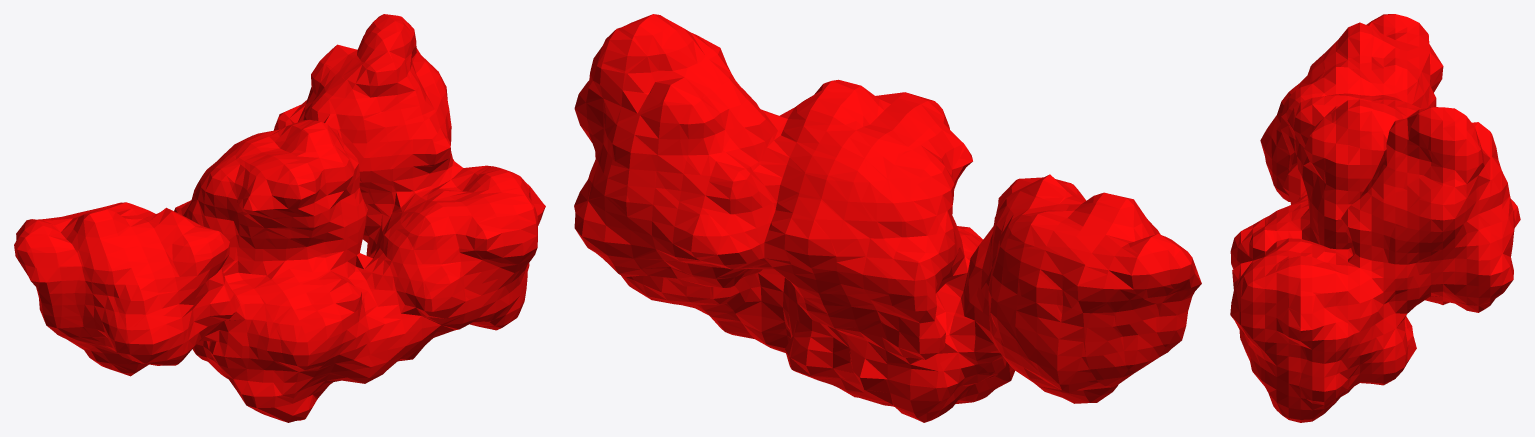
The model's file is Lman2_protein_RCG24303__isofor_coarse.dae.
The picture shows the model from 3 angles, left to right: view 1: azimuth 30°, elevation 25°; view 2: azimuth 150°, elevation 25°; view 3: azimuth 270°, elevation 25°; orthographic projection. The views are drawn at different scales.
Parts seen in each view (by area): view 1: Lman2_protein_RCG24303__isofor; view 2: Lman2_protein_RCG24303__isofor; view 3: Lman2_protein_RCG24303__isofor.
Part boxes in pixels (x1,y1,x2,y2): Lman2_protein_RCG24303__isofor: (14,14,545,422); Lman2_protein_RCG24303__isofor: (574,14,1201,422); Lman2_protein_RCG24303__isofor: (1230,14,1520,422).
Bounding box in the file's own units: 150 × 91.12 × 71.17.
